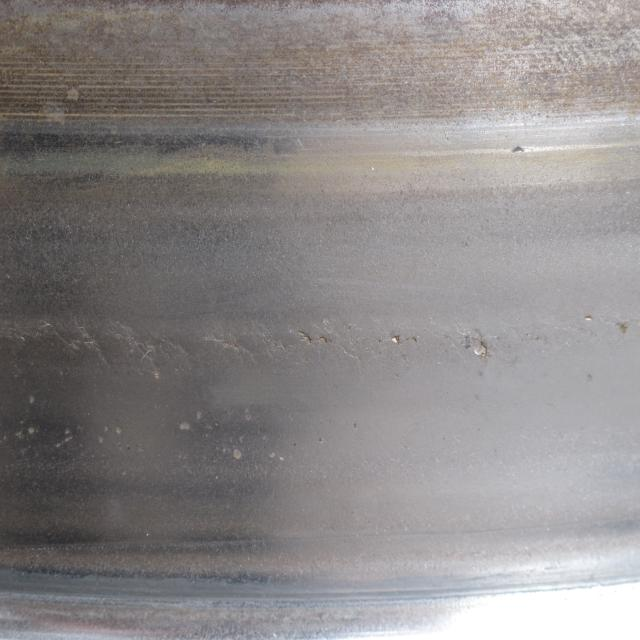Blue hole: (585, 317, 594, 322)
Contact_Fatigue_Cracks: (32, 313, 158, 385), (263, 326, 362, 363), (204, 333, 255, 361), (511, 146, 536, 155)
Peeling: (466, 330, 490, 361), (391, 336, 423, 350)
